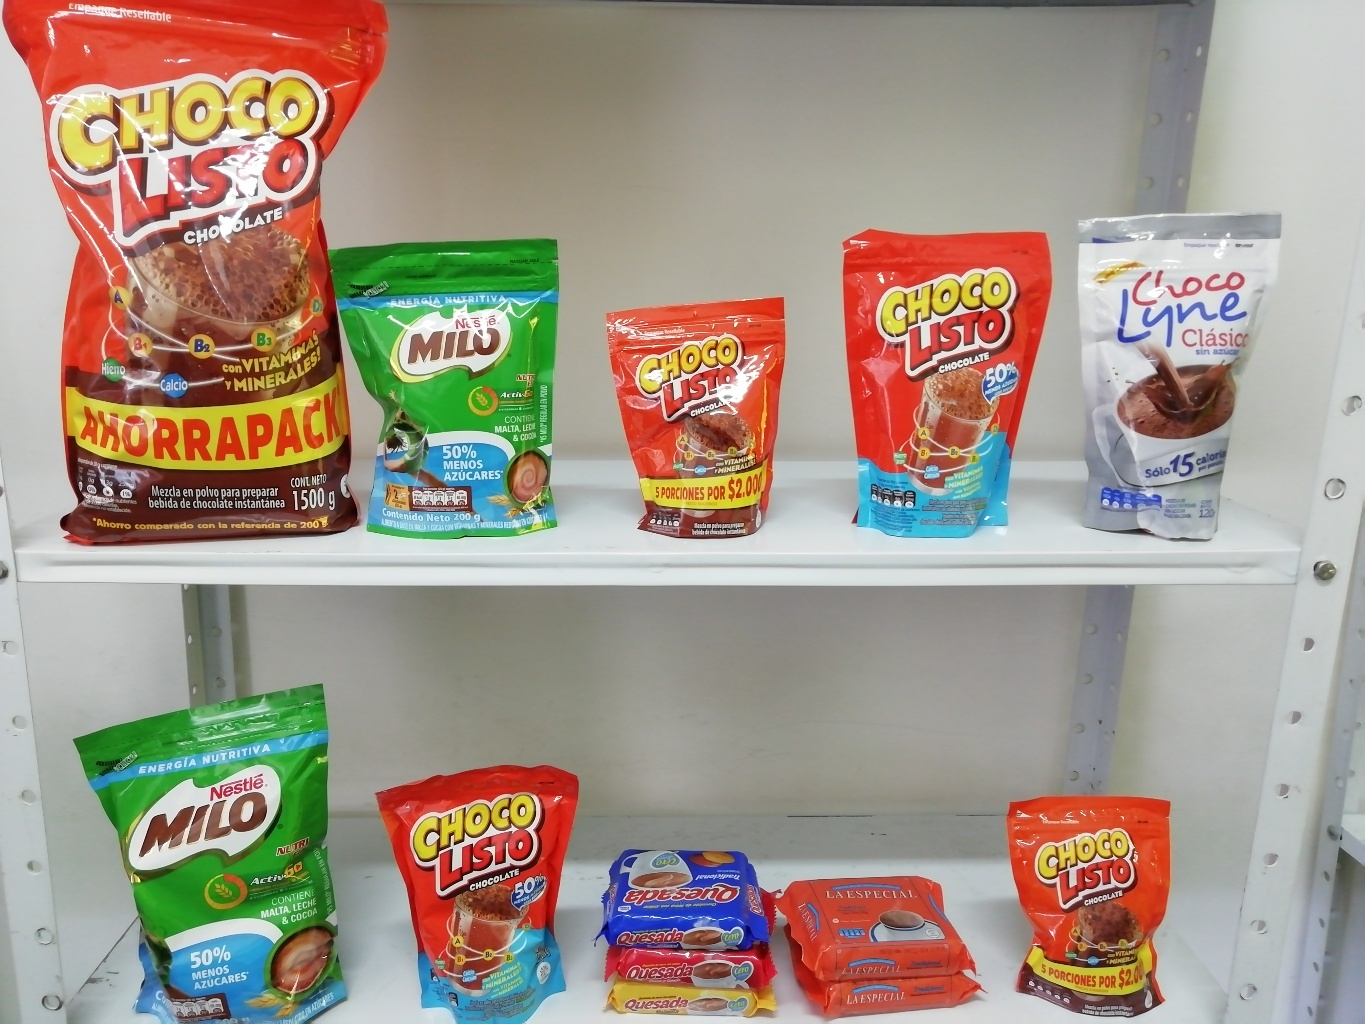COL0170103DYP1,500: (0, 3, 361, 539)
COL0170104DYP20000: (843, 219, 1081, 543)
COL0170205DYP20000: (355, 237, 597, 553)
COL0170205DYP50000: (80, 673, 366, 1023)
